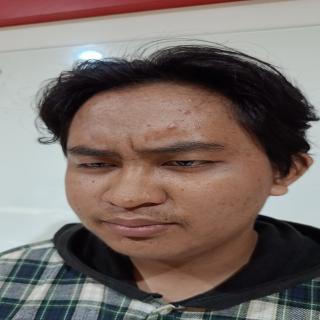Marah: (61, 71, 261, 262)
